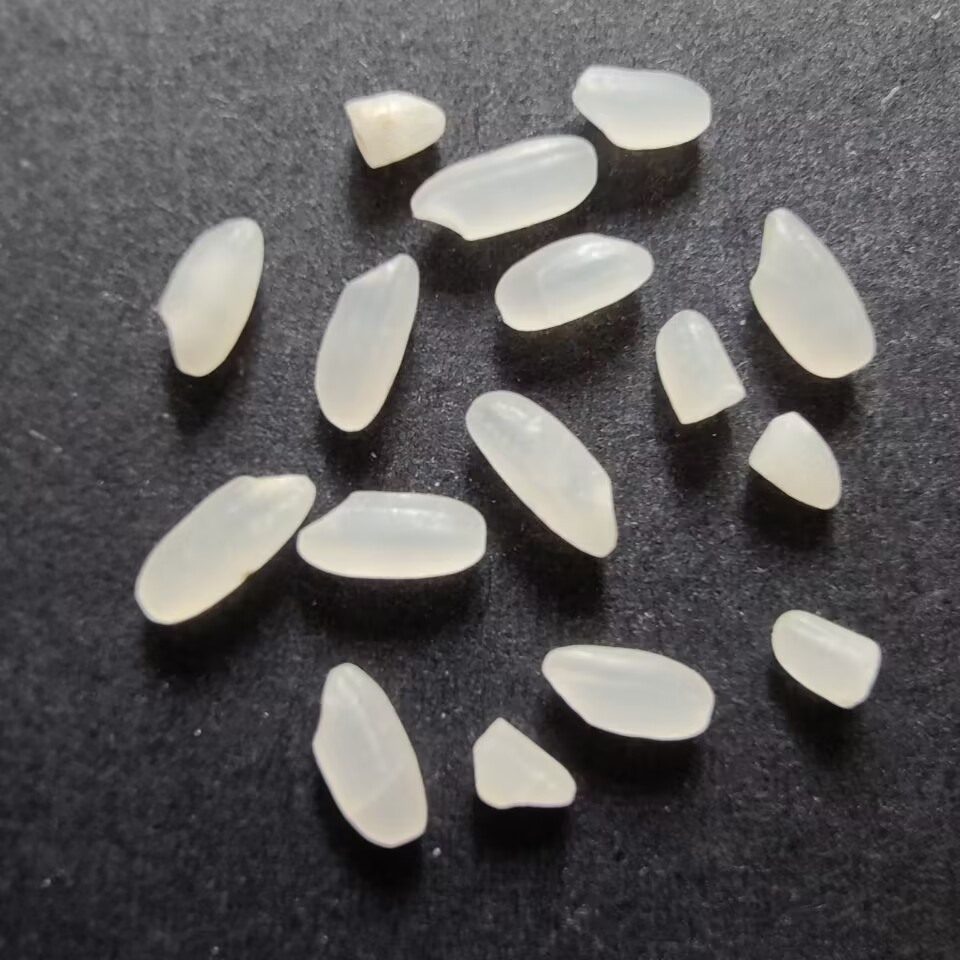broken: (570, 59, 714, 153), (767, 608, 884, 712), (654, 309, 749, 429), (467, 714, 578, 812), (744, 408, 844, 513), (340, 88, 449, 169)
rice: (133, 463, 314, 631), (461, 387, 623, 558), (308, 659, 431, 851), (744, 209, 879, 380), (409, 132, 599, 242), (311, 249, 423, 432), (155, 213, 268, 386), (292, 484, 489, 583), (538, 643, 719, 743), (491, 231, 655, 330)
